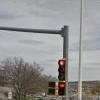Traffic light: (40, 48, 78, 100)
